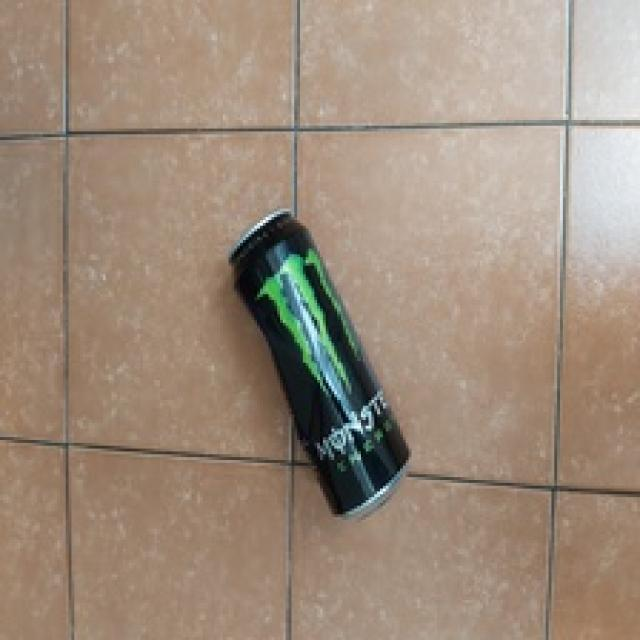recyclable: (231, 208, 414, 519)
